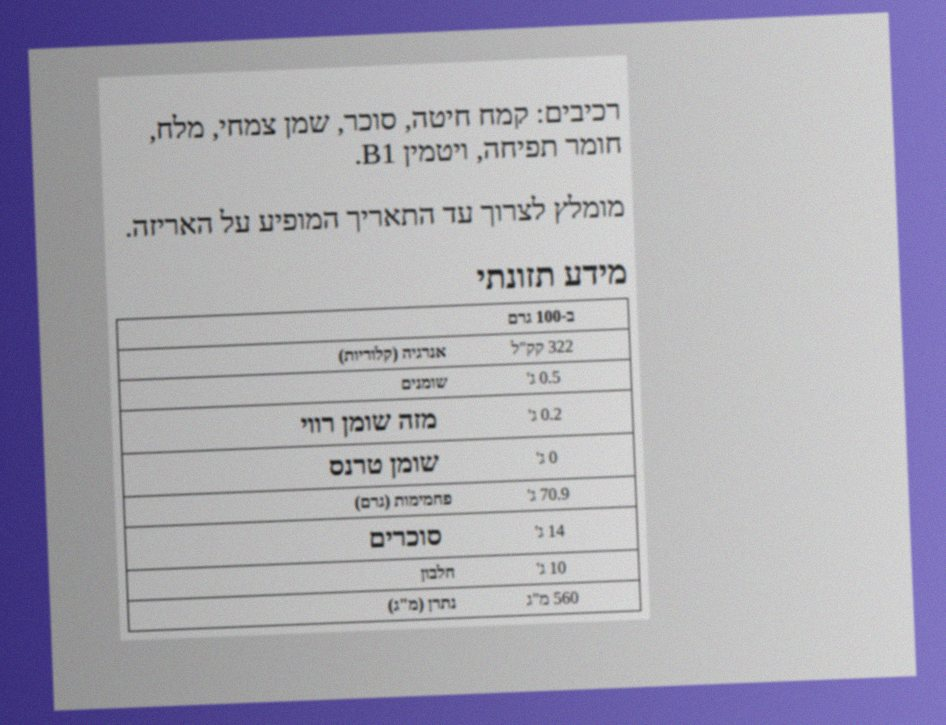carbs: (525, 482, 572, 506)
energy: (509, 335, 576, 360)
fat: (524, 366, 563, 390)
protein: (534, 556, 569, 580)
